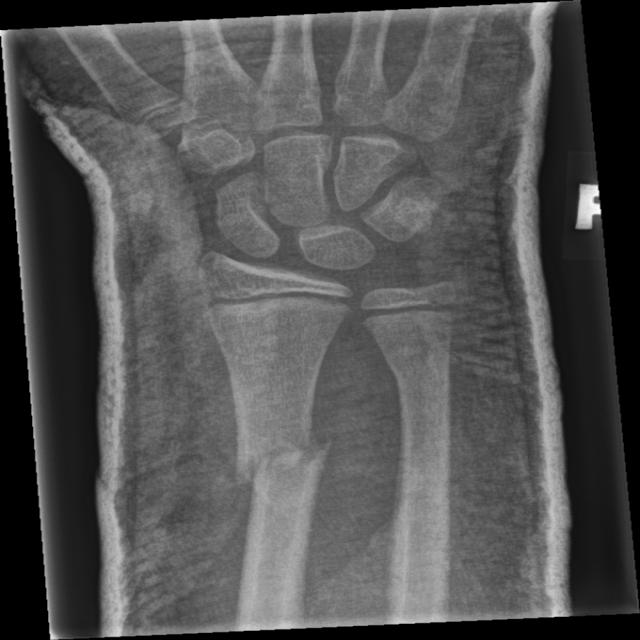radius fracture: (189, 370, 378, 562)
